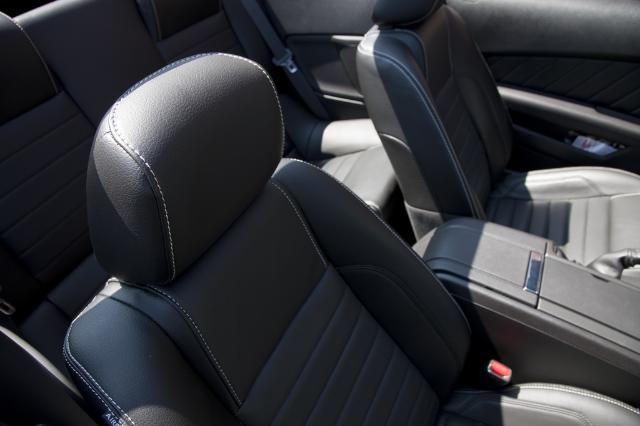Seatbelt: (240, 0, 334, 120)
